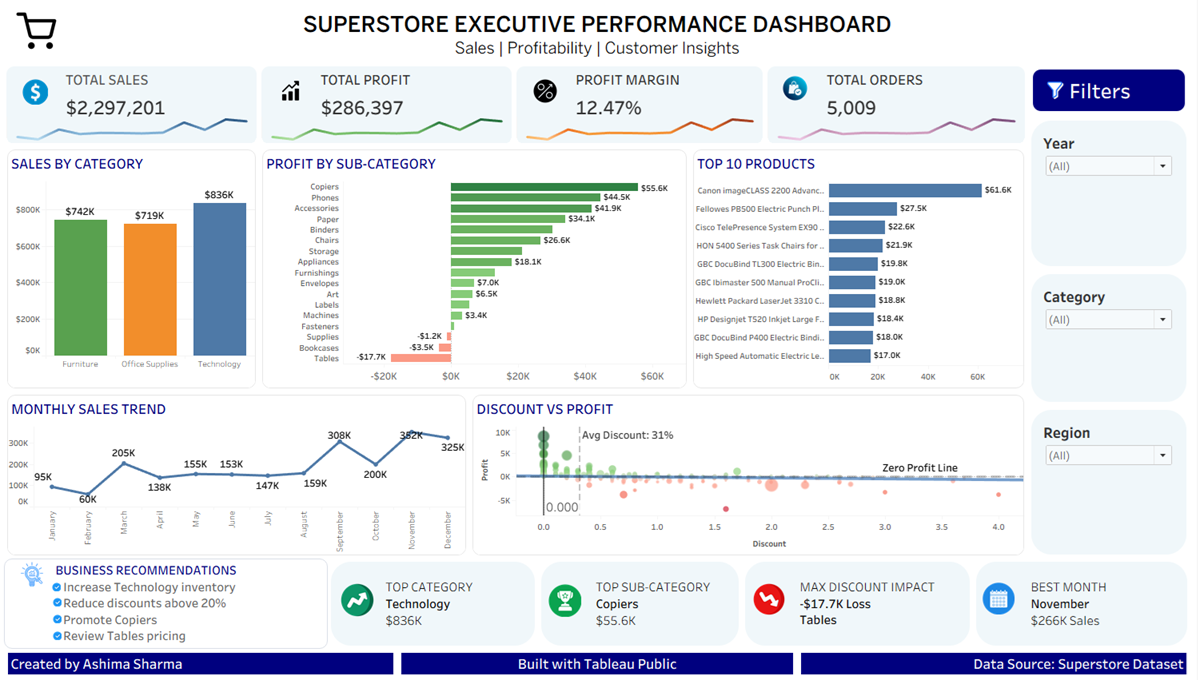

The dashboard page shown, as its layout file describes it:
{"tool":"tableau","page":{"name":"Dashboard 1","canvas":[1000,1000],"units":"permille","ordinal":0},"visuals":[{"type":"text","box":[5.3,9.4,989.3,84.5]},{"type":"image","param":"Image/shopping-cart.png","box":[12.7,11.1,42.7,67.8]},{"type":"worksheet","title":"Total Sales","mark":"Automatic","box":[5.3,93.9,212.7,77.9]},{"type":"worksheet","title":"Total Profit","mark":"Automatic","box":[218,93.9,212.7,77.9]},{"type":"worksheet","title":"Profit Margin","mark":"Automatic","box":[430.7,93.9,209.3,77.9]},{"type":"worksheet","title":"Total Orders","mark":"Automatic","box":[640,93.9,218.7,77.9]},{"type":"text","box":[858.7,93.9,136,77.9]},{"type":"image","param":"Image/shopping-bag.png","box":[654,110.3,21.3,37.6]},{"type":"image","param":"Image/profit-margin.png","box":[445.3,113.9,22,41.1]},{"type":"image","param":"Image/filter.png","box":[872,115,29.3,34]},{"type":"image","param":"Image/coin.png","box":[20.7,116.2,25.3,37.6]},{"type":"image","param":"Image/profit.png","box":[234.7,116.2,20,32.9]},{"type":"worksheet","title":"Mini Sales Trend","mark":"Line","rows":["Sales"],"cols":["Order Date"],"box":[5.3,171.8,212.7,42.7]},{"type":"worksheet","title":"Mini Sales Trend (2)","mark":"Line","rows":["Sales"],"cols":["Order Date"],"box":[218,171.8,212.7,42.7]},{"type":"worksheet","title":"Mini Sales Trend (3)","mark":"Line","rows":["Sales"],"cols":["Order Date"],"box":[430.7,171.8,209.3,42.7]},{"type":"worksheet","title":"Mini Sales Trend (4)","mark":"Line","rows":["Sales"],"cols":["Order Date"],"box":[640,171.8,218.7,42.7]},{"type":"filter","title":"Top 10 Products","param":"[federated.05smfwg1in4j4i0zxcioh12e72my].[yr:Order Date:ok]","box":[858.7,171.8,136,224.9]},{"type":"worksheet","title":"Sales by Category","mark":"Bar","rows":["Sales"],"cols":["Category"],"box":[5.3,214.5,212.7,360.2]},{"type":"worksheet","title":"Profit by Sub-Category","mark":"Automatic","rows":["Sub-Category"],"cols":["Profit"],"box":[218,214.5,359.3,360.2]},{"type":"worksheet","title":"Top 10 Products","mark":"Automatic","rows":["Product Name"],"cols":["Sales"],"box":[577.3,214.5,281.3,360.2]},{"type":"filter","title":"Top 10 Products","param":"[federated.05smfwg1in4j4i0zxcioh12e72my].[none:Category:nk]","box":[858.7,396.7,136,200.1]},{"type":"worksheet","title":"MONTHLY SALES TREND","mark":"Automatic","rows":["Sales"],"cols":["Order Date"],"box":[5.3,574.6,387.9,245.8]},{"type":"worksheet","title":"Discount vs Profit","mark":"Circle","rows":["Profit"],"cols":["Discount"],"box":[393.3,574.6,465.3,245.8]},{"type":"filter","title":"Top 10 Products","param":"[federated.05smfwg1in4j4i0zxcioh12e72my].[none:Region:nk]","box":[858.7,596.8,136,223.6]},{"type":"text","box":[5.3,820.4,270,132.6]},{"type":"text","box":[275.3,820.4,175.3,132.6]},{"type":"text","box":[450.7,820.4,170,132.6]},{"type":"text","box":[620.7,820.4,192.7,132.6]},{"type":"text","box":[813.3,820.4,181.4,132.6]},{"type":"image","param":"Image/insight.png","box":[18,825.1,24.7,36.4]},{"type":"image","param":"Image/check.png","box":[45.3,855.6,10.7,12.9]},{"type":"image","param":"Image/increase.png","box":[285.3,855.6,36.7,50.5]},{"type":"image","param":"Image/decrease.png","box":[629.3,855.6,31.3,48.1]},{"type":"image","param":"Image/calendar (1).png","box":[821.3,855.6,31.3,47]},{"type":"image","param":"Image/trophy.png","box":[459.3,858,32,48.1]},{"type":"image","param":"Image/check.png","box":[46,877.9,10,12.9]},{"type":"image","param":"Image/check.png","box":[46,902.6,7.3,16.4]},{"type":"image","param":"Image/check.png","box":[46,927.2,7.3,14.1]},{"type":"text","box":[5.3,953.1,328,37.6]},{"type":"text","box":[333.3,953.1,333.3,37.6]},{"type":"text","box":[666.7,953.1,328,37.6]}]}

Visuals, with their boxes on the dashboard's canvas, which has no fixed pixel size, in thousandths of its width and height (x1, y1, x2, y2). These are canvas units, not pixel positions in the 1198x680 screenshot, which may show the page scaled, cropped or inside an application window:
text: locate(5, 9, 995, 94)
image: locate(13, 11, 55, 79)
"Total Sales" worksheet: locate(5, 94, 218, 172)
"Total Profit" worksheet: locate(218, 94, 431, 172)
"Profit Margin" worksheet: locate(431, 94, 640, 172)
"Total Orders" worksheet: locate(640, 94, 859, 172)
text: locate(859, 94, 995, 172)
image: locate(654, 110, 675, 148)
image: locate(445, 114, 467, 155)
image: locate(872, 115, 901, 149)
image: locate(21, 116, 46, 154)
image: locate(235, 116, 255, 149)
"Mini Sales Trend" worksheet (Line marks): locate(5, 172, 218, 214)
"Mini Sales Trend (2)" worksheet (Line marks): locate(218, 172, 431, 214)
"Mini Sales Trend (3)" worksheet (Line marks): locate(431, 172, 640, 214)
"Mini Sales Trend (4)" worksheet (Line marks): locate(640, 172, 859, 214)
"Top 10 Products" filter: locate(859, 172, 995, 397)
"Sales by Category" worksheet (Bar marks): locate(5, 214, 218, 575)
"Profit by Sub-Category" worksheet: locate(218, 214, 577, 575)
"Top 10 Products" worksheet: locate(577, 214, 859, 575)
"Top 10 Products" filter: locate(859, 397, 995, 597)
"MONTHLY SALES TREND" worksheet: locate(5, 575, 393, 820)
"Discount vs Profit" worksheet (Circle marks): locate(393, 575, 859, 820)
"Top 10 Products" filter: locate(859, 597, 995, 820)
text: locate(5, 820, 275, 953)
text: locate(275, 820, 451, 953)
text: locate(451, 820, 621, 953)
text: locate(621, 820, 813, 953)
text: locate(813, 820, 995, 953)
image: locate(18, 825, 43, 862)
image: locate(45, 856, 56, 868)
image: locate(285, 856, 322, 906)
image: locate(629, 856, 661, 904)
image: locate(821, 856, 853, 903)
image: locate(459, 858, 491, 906)
image: locate(46, 878, 56, 891)
image: locate(46, 903, 53, 919)
image: locate(46, 927, 53, 941)
text: locate(5, 953, 333, 991)
text: locate(333, 953, 667, 991)
text: locate(667, 953, 995, 991)
